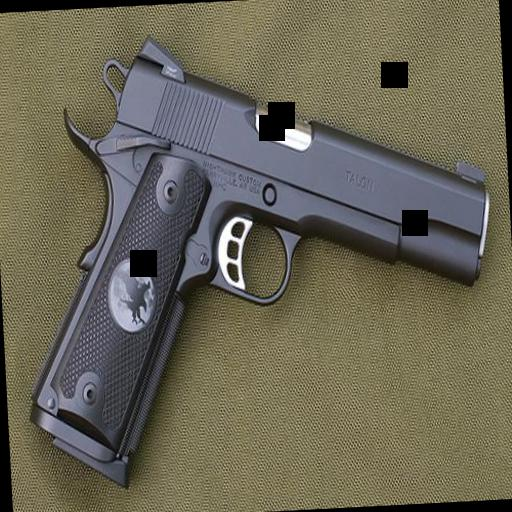Handgun: (6, 17, 506, 491)
